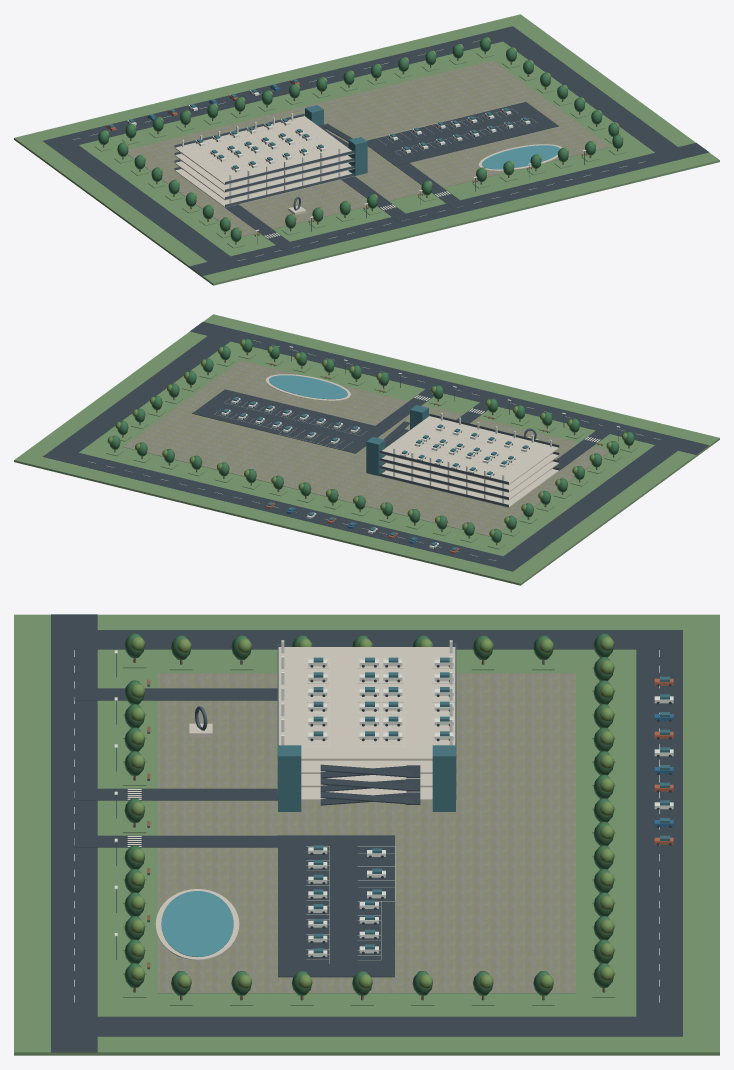
3 renders of one model, top to bottom at view 1: azimuth 30°, elevation 25°; view 2: azimuth 150°, elevation 25°; view 3: azimuth 270°, elevation 25°, orthographic. The views are drawn at different scales.
Parts seen in each view (by area): view 1: Landscape/grass, Landscape/paving, Landscape/road, Building 1/Floor 4/stone, Landscape/leaf, Building 2/road, Building 1/Floor 3/stone, Building 1/Floor 2/stone, Building 1/Floor 1/stone, Water garden/water, Lift and stair towers/glass, Bays/4F/white (+7 smaller); view 2: Landscape/grass, Landscape/paving, Landscape/road, Building 1/Floor 4/stone, Building 2/road, Landscape/leaf, Landscape/leaf2, Water garden/water, Building 1/Floor 3/stone, Building 1/Floor 2/stone, Building 1/Floor 1/stone, Lift and stair towers/glass (+7 smaller); view 3: Landscape/grass, Landscape/paving, Landscape/road, Building 1/Floor 4/stone, Building 2/road, Landscape/leaf, Landscape/leaf2, Water garden/water, Vehicle ramps/road, Lift and stair towers/glass, Bays/4F/white, Bays/P2/white (+9 smaller).
Boxes of the visible parts, x1,y1,x2,y2 form: Landscape/grass: (14,14,719,285); Landscape/paving: (127,60,610,237); Landscape/road: (43,26,709,275); Building 1/Floor 4/stone: (175,116,354,184); Landscape/leaf: (98,37,623,241); Building 2/road: (367,102,558,165); Building 1/Floor 3/stone: (175,153,354,192); Building 1/Floor 2/stone: (175,161,354,200); Building 1/Floor 1/stone: (175,169,353,207); Water garden/water: (482,145,559,169); Lift and stair towers/glass: (305,105,367,175); Bays/4F/white: (195,119,325,172); Landscape/grass: (14,314,719,585); Landscape/paving: (123,360,608,536); Landscape/road: (43,322,708,571); Building 1/Floor 4/stone: (379,416,558,484); Building 2/road: (192,389,388,453); Landscape/leaf: (109,338,634,542); Landscape/leaf2: (107,339,626,537); Water garden/water: (269,375,347,399); Building 1/Floor 3/stone: (379,453,558,492); Building 1/Floor 2/stone: (379,461,558,500); Building 1/Floor 1/stone: (379,469,558,507); Lift and stair towers/glass: (366,405,428,475); Landscape/grass: (14,614,719,1055); Landscape/paving: (158,673,575,993); Landscape/road: (51,614,682,1052); Building 1/Floor 4/stone: (278,647,455,760); Building 2/road: (278,835,394,977); Landscape/leaf: (124,633,613,995); Landscape/leaf2: (131,636,614,989); Water garden/water: (161,891,233,957); Vehicle ramps/road: (320,764,420,805); Lift and stair towers/glass: (278,745,455,811); Bays/4F/white: (308,659,453,739); Bays/P2/white: (308,847,385,956).
Size of the model in its own units: 223 by 14.15 by 152.
Materials: 15 (1 with a texture image).
